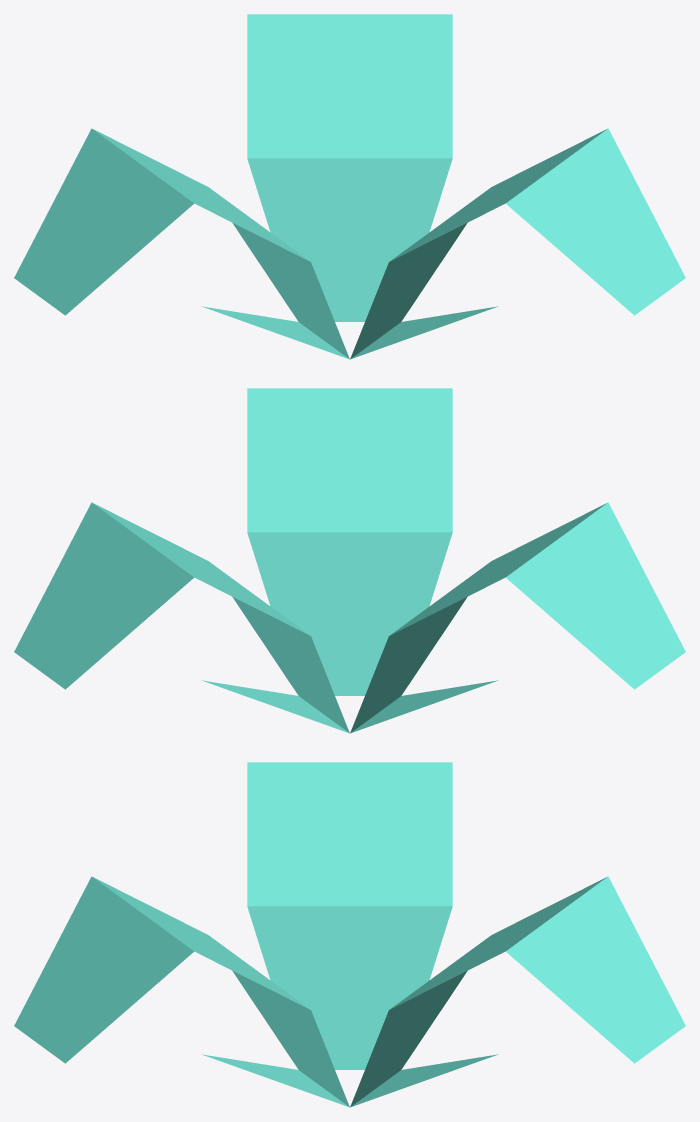
File: plant_bushLargeTriangle.glb
3 renders of one model, top to bottom at view 1: azimuth 30°, elevation 25°; view 2: azimuth 150°, elevation 25°; view 3: azimuth 270°, elevation 25°, orthographic.
Visible parts, largest first — view 1: plant_bushLargeTriangle; view 2: plant_bushLargeTriangle; view 3: plant_bushLargeTriangle.
Boxes of the visible parts, <box> form: plant_bushLargeTriangle: <box>14,14,685,359</box>; plant_bushLargeTriangle: <box>14,388,685,733</box>; plant_bushLargeTriangle: <box>14,762,685,1107</box>.
Bounding box in the file's own units: 0.4077 × 0.1693 × 0.4708.
